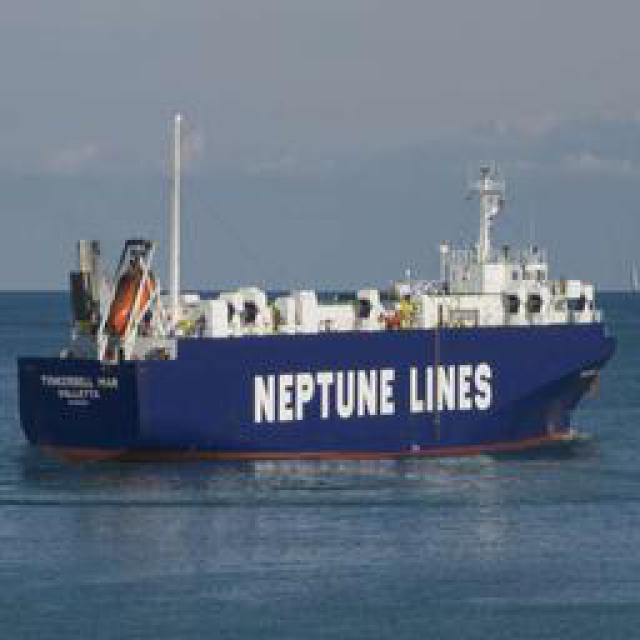Ship: (37, 127, 617, 467)
